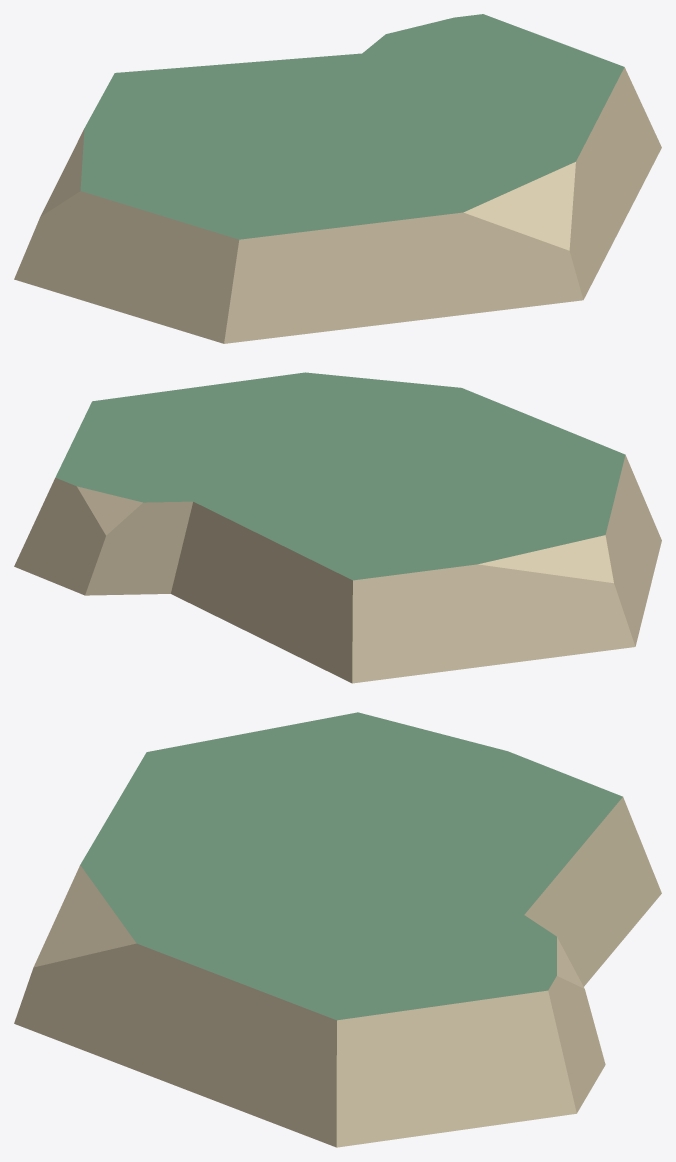
File: rock_smallFlatC.glb
3 views of the same model, one above another, from view 1: azimuth 30°, elevation 25°; view 2: azimuth 150°, elevation 25°; view 3: azimuth 270°, elevation 25° (orthographic). The views are drawn at different scales.
Visible parts, largest first — view 1: rock_smallFlatC; view 2: rock_smallFlatC; view 3: rock_smallFlatC.
Boxes of the visible parts, x1,y1,x2,y2 form: rock_smallFlatC: (14,14,661,343); rock_smallFlatC: (14,372,661,683); rock_smallFlatC: (14,712,661,1147).
Size of the model in its own units: 0.4704 by 0.0649 by 0.3603.
